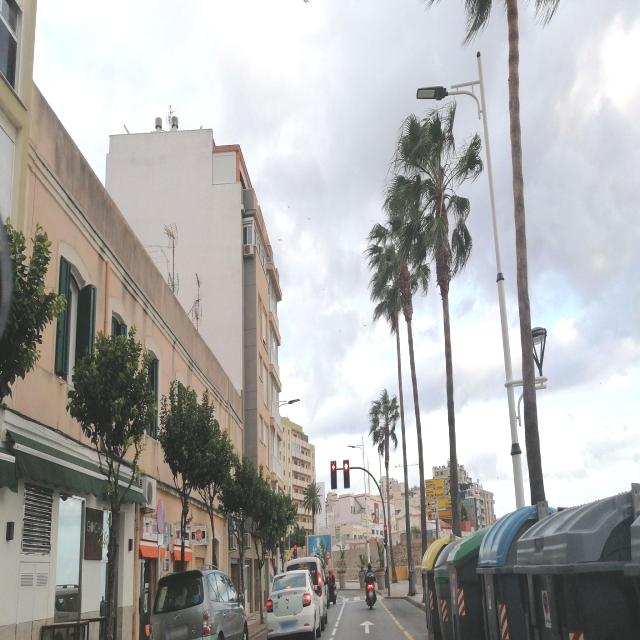bike: (365, 577, 378, 609)
car: (147, 567, 249, 640), (264, 570, 324, 640), (286, 556, 328, 624), (322, 567, 338, 605)
